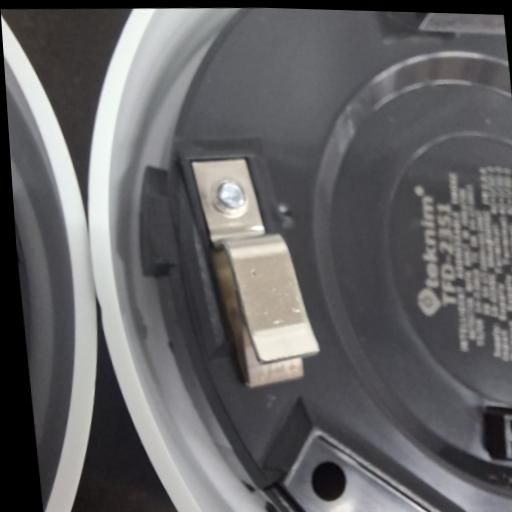yayli: (182, 150, 323, 386)
